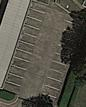parkingspot: (2, 0, 50, 96), (37, 12, 85, 107)
